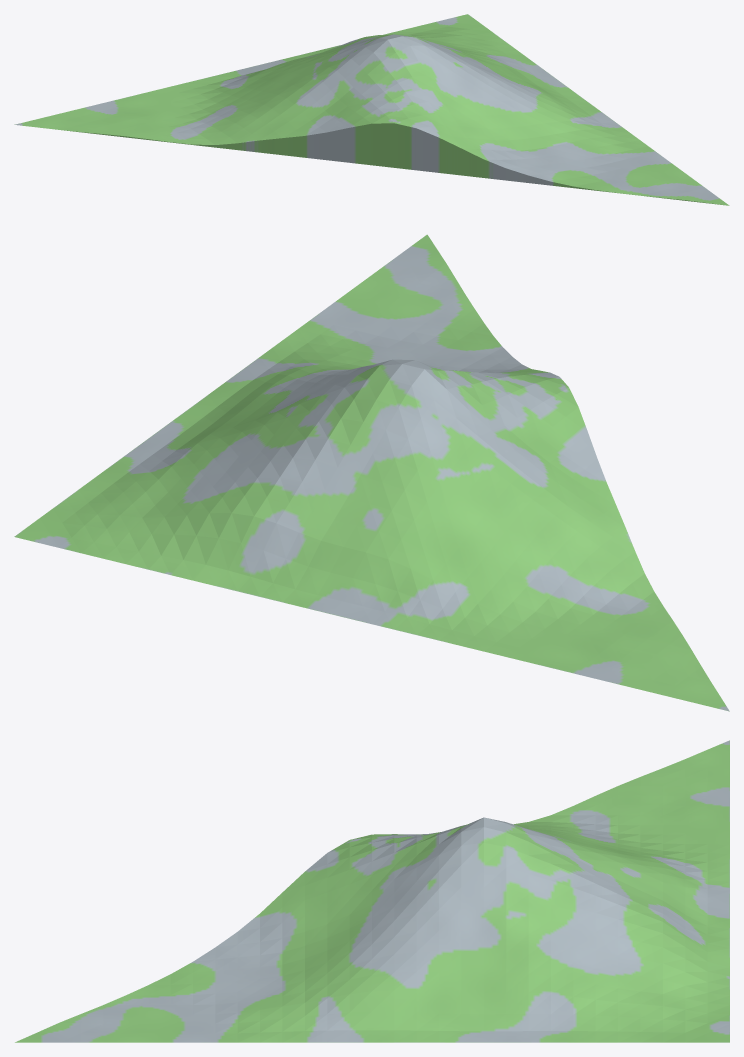
Rendered from Grass_RockyGround_06_SE.obj.
3 renders of one model, top to bottom at view 1: azimuth 30°, elevation 25°; view 2: azimuth 150°, elevation 25°; view 3: azimuth 270°, elevation 25°, orthographic. The views are drawn at different scales.
Size of the model in its own units: 10 by 1.72 by 10.
Materials: 1 (1 with a texture image).
